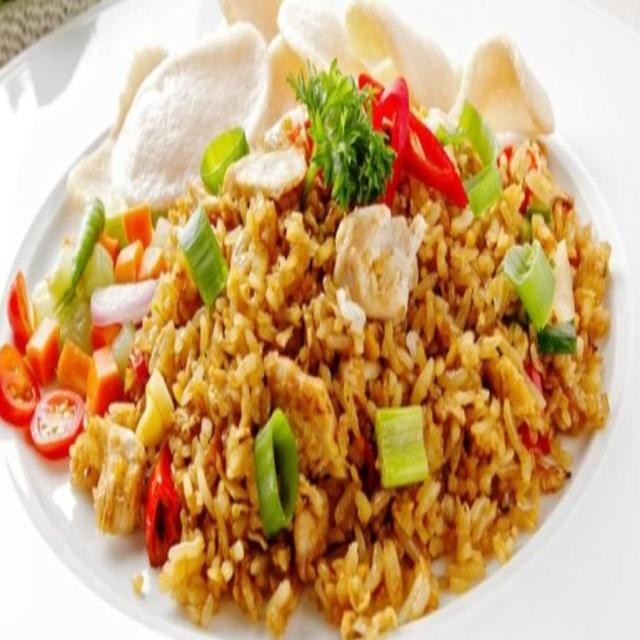Nasi Goreng: (107, 80, 597, 576)
